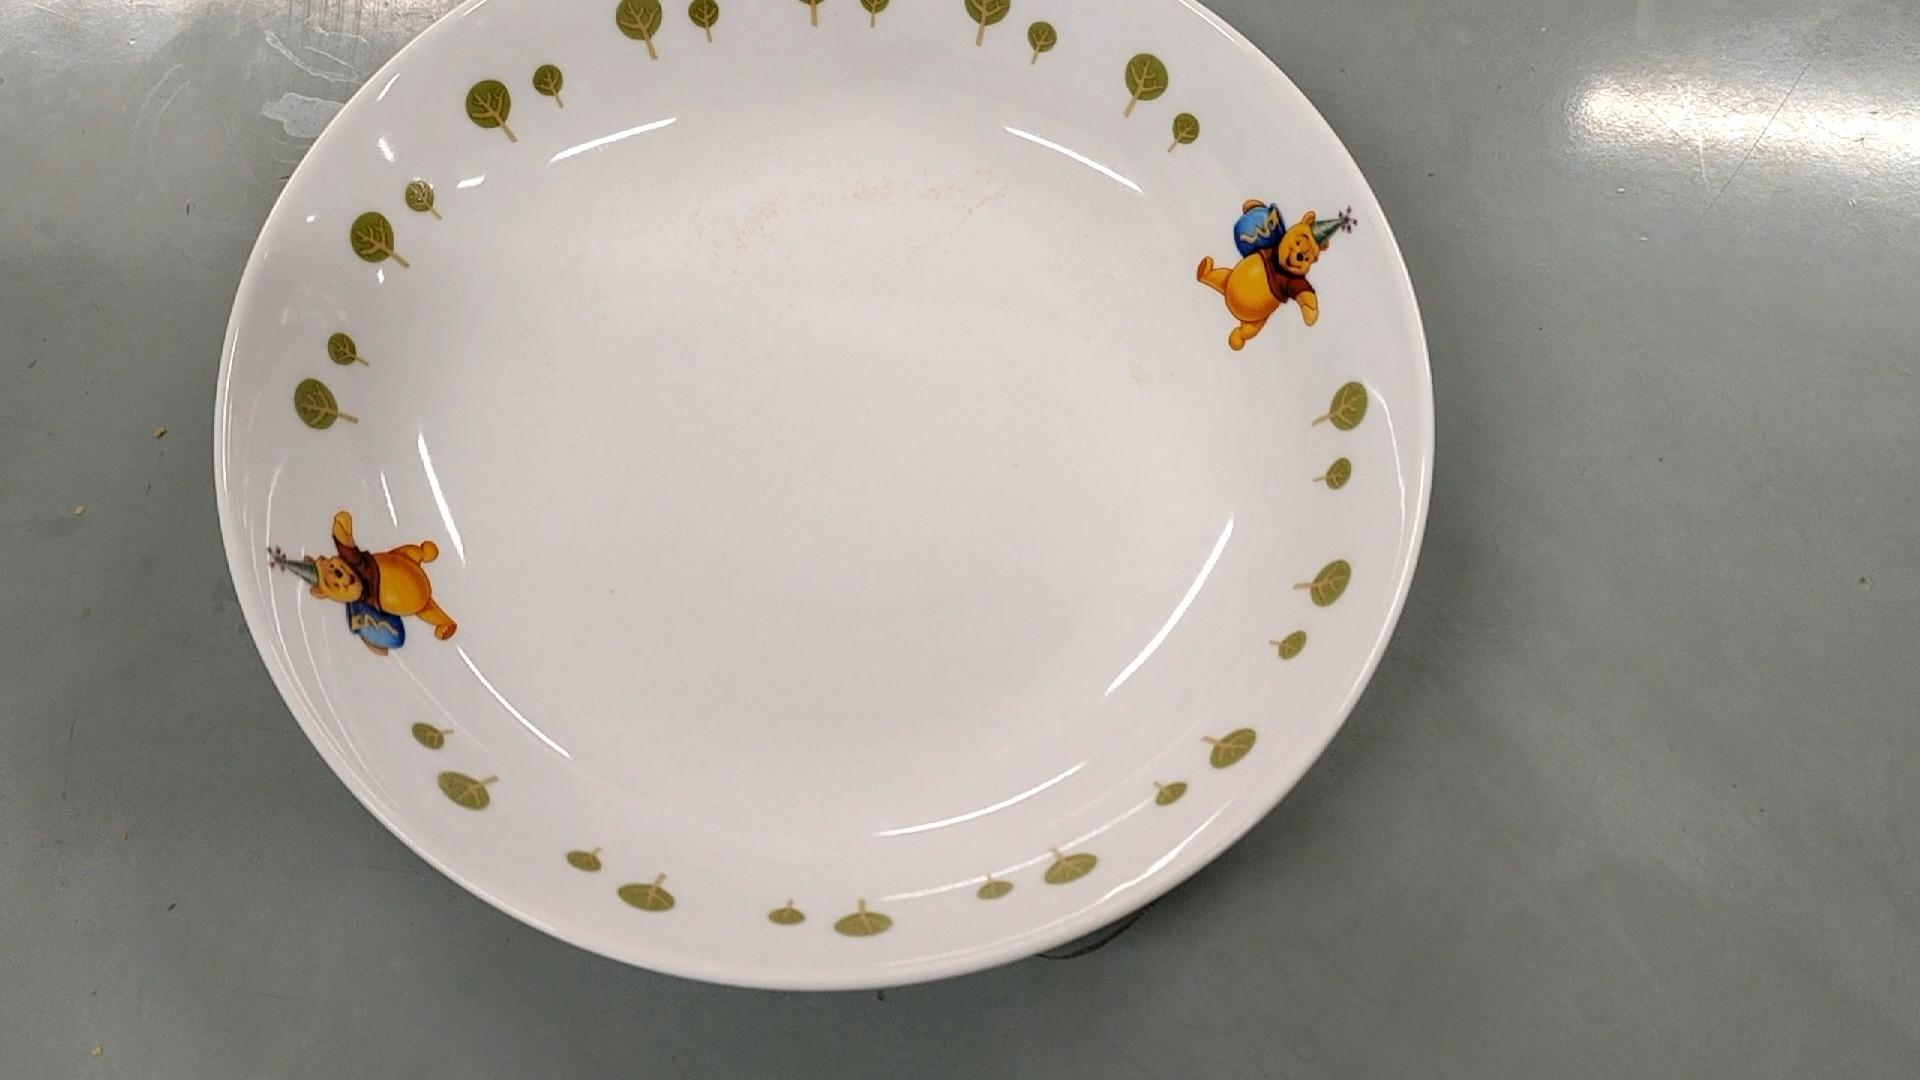plate: (214, 0, 1429, 1000)
